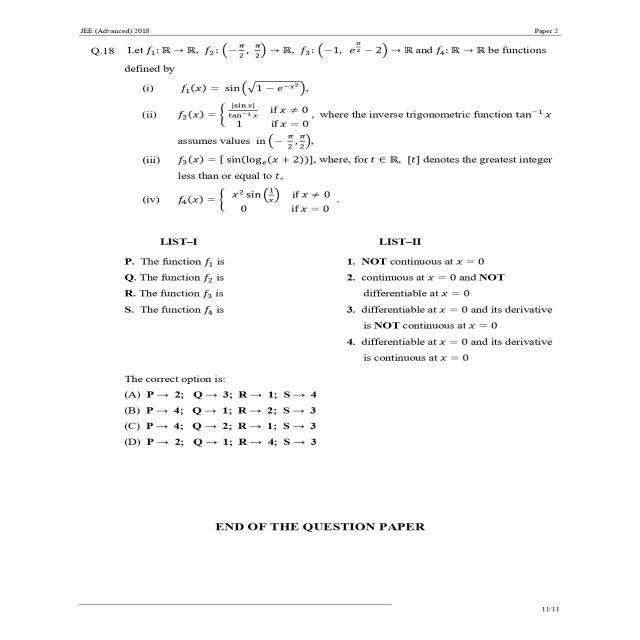Answer_Block: (56, 386, 604, 459)
Question_Answer_Block: (56, 42, 604, 506)
Question_Block: (56, 43, 604, 385)
Question_Paper_Area: (56, 42, 604, 506)
